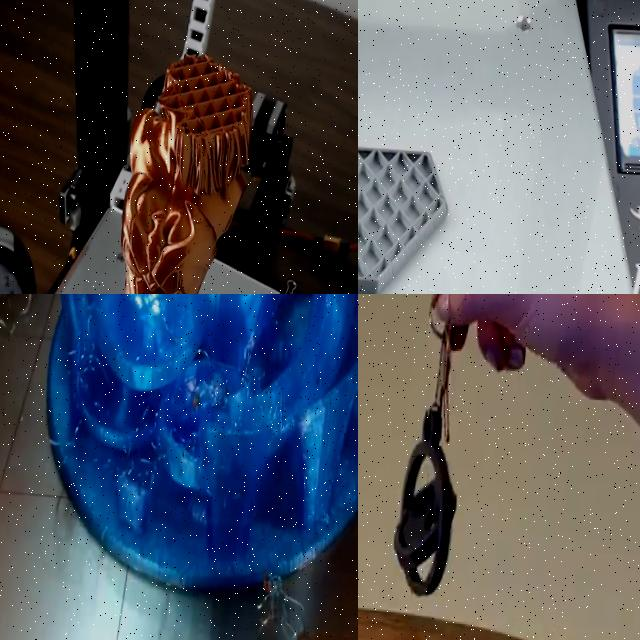spaghetti: (51, 294, 333, 553), (256, 574, 303, 640)
